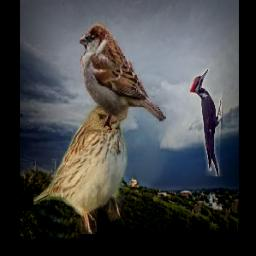Sparrow: (33, 96, 133, 235), (80, 24, 167, 131)
Woodpecker: (190, 68, 223, 176)
